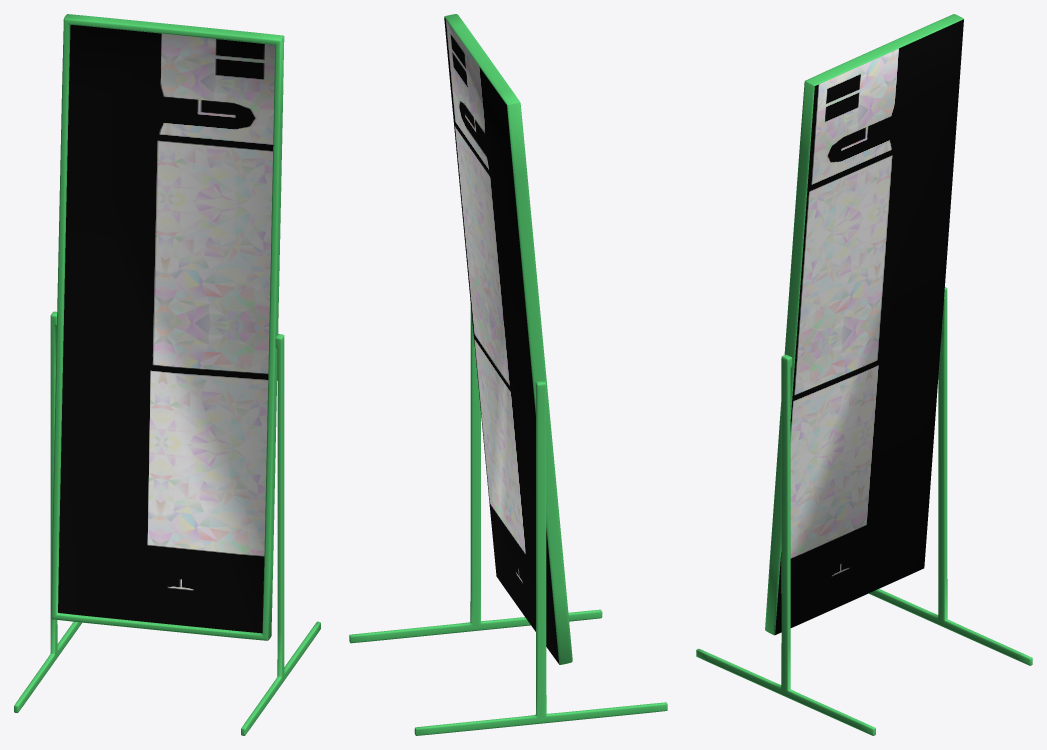
The model's file is y_ayna.obj.
3 renders of one model, left to right at view 1: azimuth 30°, elevation 25°; view 2: azimuth 150°, elevation 25°; view 3: azimuth 270°, elevation 25°, orthographic. The views are drawn at different scales.
Parts seen in each view (by area): view 1: Box009.013_wall_pembe, Box009.013_m_yeşil; view 2: Box009.013_wall_pembe, Box009.013_m_yeşil; view 3: Box009.013_wall_pembe, Box009.013_m_yeşil.
Part boxes in pixels (x1,y1,x2,y2): Box009.013_wall_pembe: [58, 25, 274, 633]; Box009.013_m_yeşil: [14, 14, 320, 735]; Box009.013_wall_pembe: [444, 17, 559, 664]; Box009.013_m_yeşil: [349, 14, 667, 735]; Box009.013_wall_pembe: [775, 19, 963, 634]; Box009.013_m_yeşil: [696, 14, 1032, 735].
Bounding box in the file's own units: 12.02 × 23.09 × 11.35.
